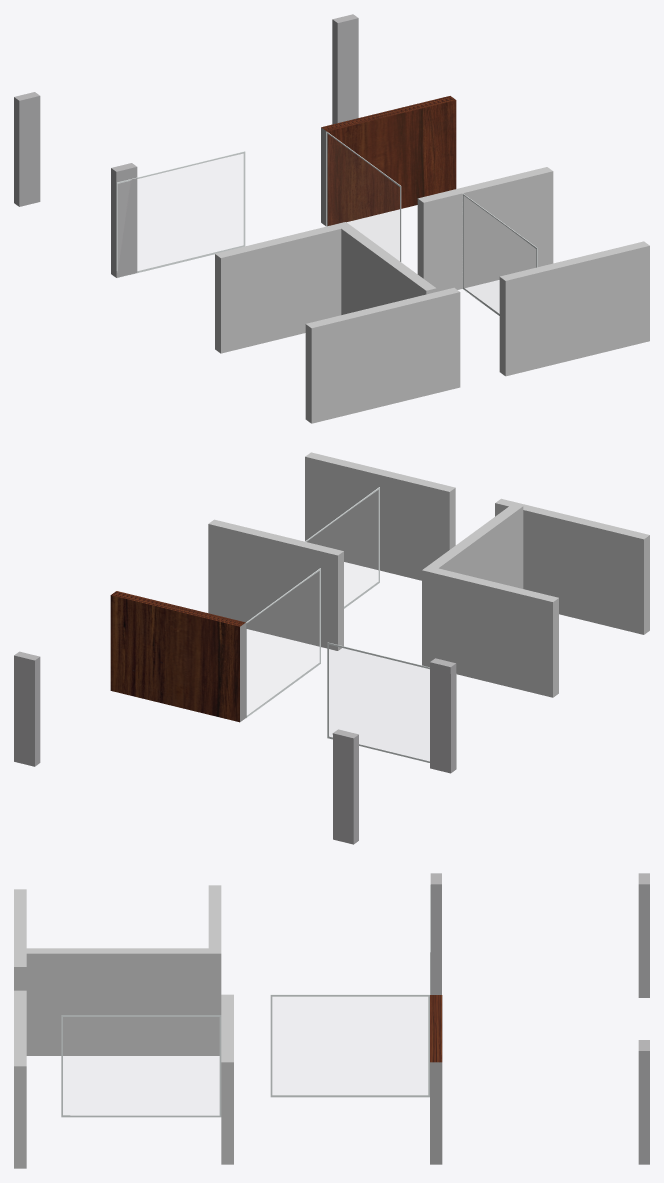
The model's file is paredes_p4.glb.
3 renders of one model, top to bottom at view 1: azimuth 30°, elevation 25°; view 2: azimuth 150°, elevation 25°; view 3: azimuth 270°, elevation 25°, orthographic. The views are drawn at different scales.
Parts seen in each view (by area): view 1: pared_frente.013, columna1.072, pared_frente.016, pared_frente.015, pared_frente.014, pared vidrio 1.018, pared vidrio 1.019, pared vidrio 1.020, a_1_export.072; view 2: pared_frente.013, columna1.072, pared_frente.015, pared_frente.016, pared_frente.014, pared vidrio 1.019, pared vidrio 1.020, pared vidrio 1.018, a_1_export.072, a_1_export.064; view 3: pared_frente.014, pared_frente.013, pared_frente.015, pared_frente.016, columna1.072, pared vidrio 1.018, pared vidrio 1.020, pared vidrio 1.019, a_1_export.064, a_1_export.067.
Boxes of the visible parts, x1,y1,x2,y2 form: pared_frente.013: [305, 241, 649, 423]; columna1.072: [321, 96, 456, 225]; pared_frente.016: [417, 167, 553, 291]; pared_frente.015: [215, 222, 351, 353]; pared_frente.014: [341, 226, 436, 314]; pared vidrio 1.018: [14, 92, 40, 206]; pared vidrio 1.019: [111, 163, 137, 277]; pared vidrio 1.020: [332, 14, 358, 124]; a_1_export.072: [116, 151, 245, 277]; pared_frente.013: [305, 452, 649, 634]; columna1.072: [110, 591, 245, 722]; pared_frente.015: [422, 566, 558, 697]; pared_frente.016: [208, 519, 343, 650]; pared_frente.014: [428, 504, 523, 588]; pared vidrio 1.019: [430, 658, 456, 773]; pared vidrio 1.020: [14, 651, 40, 766]; pared vidrio 1.018: [332, 729, 358, 844]; a_1_export.072: [327, 642, 456, 768]; a_1_export.064: [246, 568, 320, 717]; pared_frente.014: [26, 948, 208, 1055]; pared_frente.013: [14, 889, 26, 1168]; pared_frente.015: [208, 885, 221, 1055]; pared_frente.016: [221, 994, 233, 1164]; columna1.072: [430, 995, 442, 1164]; pared vidrio 1.018: [638, 873, 649, 997]; pared vidrio 1.020: [638, 1040, 649, 1164]; pared vidrio 1.019: [430, 873, 441, 994]; a_1_export.064: [270, 994, 429, 1097]; a_1_export.067: [61, 1015, 221, 1117].
Size of the model in its own units: 58.8 by 18.18 by 89.01.
Materials: 6 (1 with a texture image).
